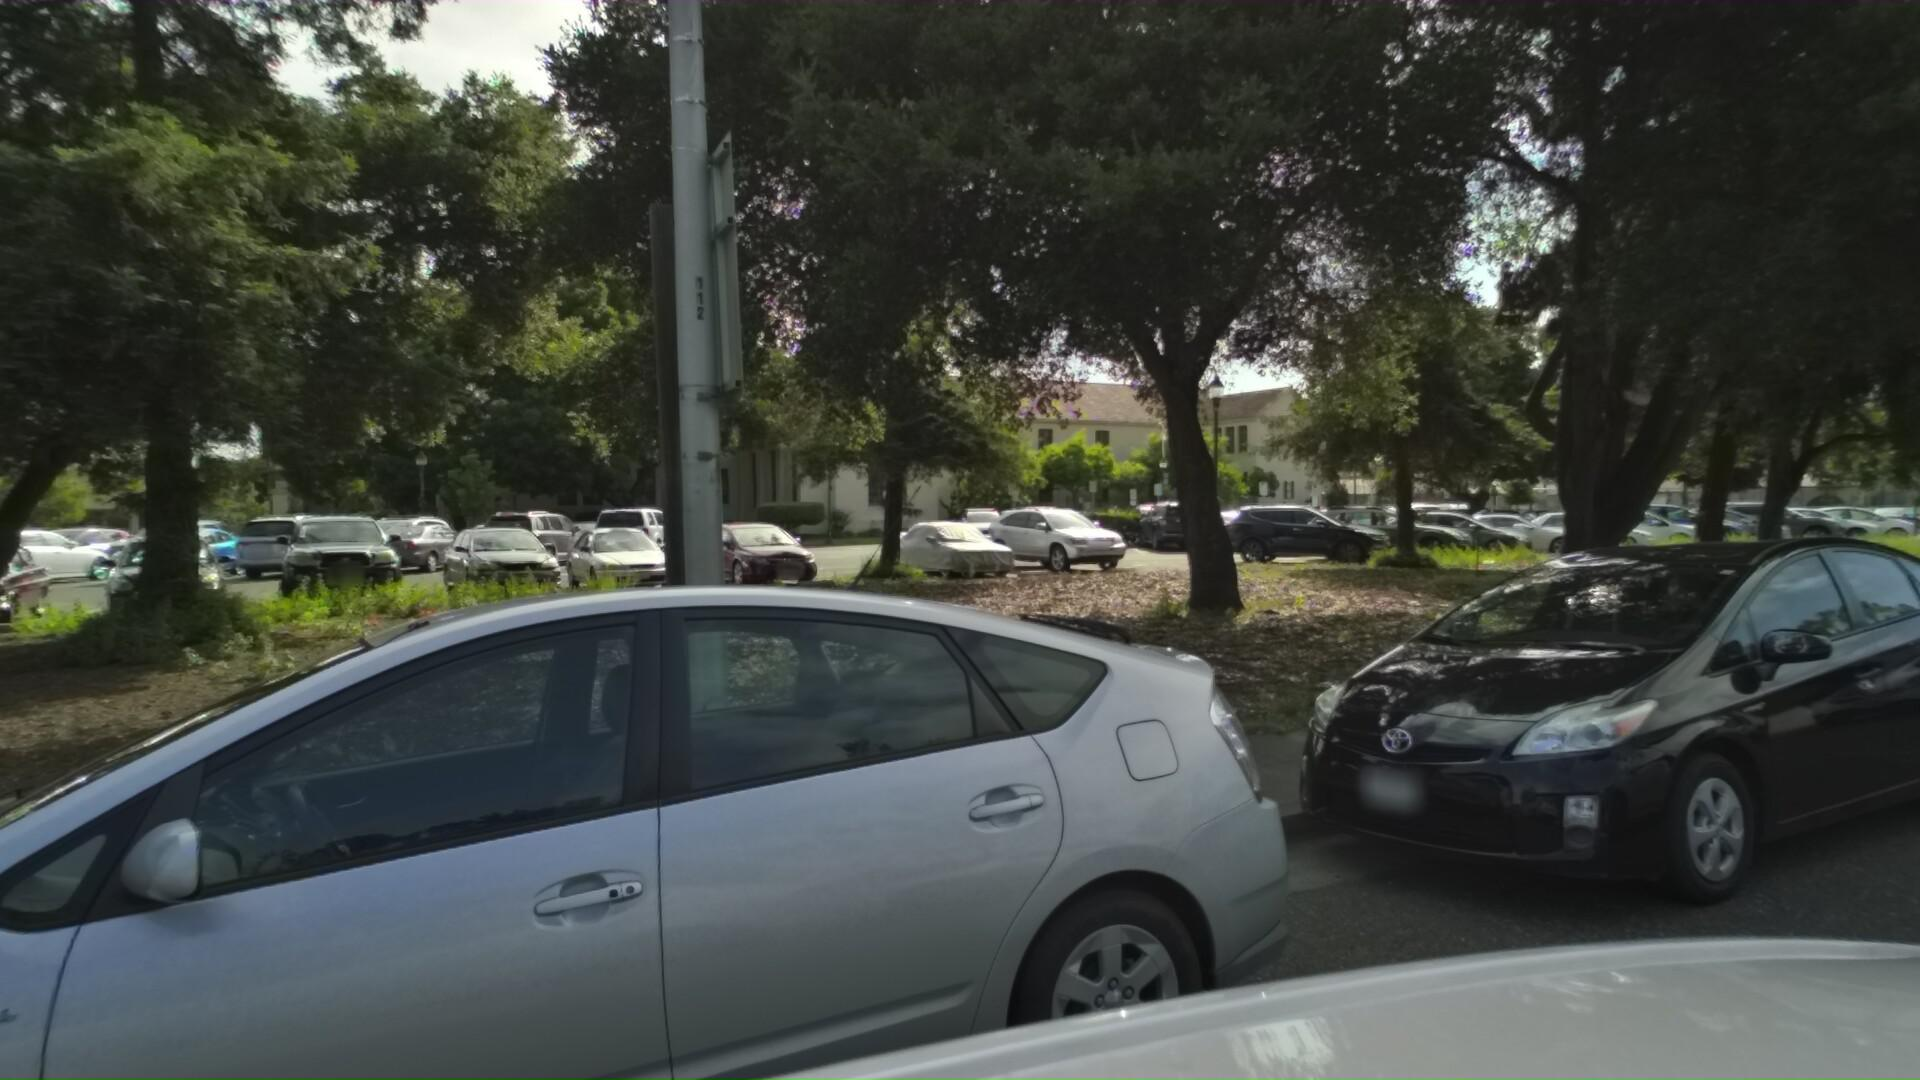car: (0, 546, 1340, 1080), (1232, 516, 1920, 971), (1818, 510, 1920, 766)
